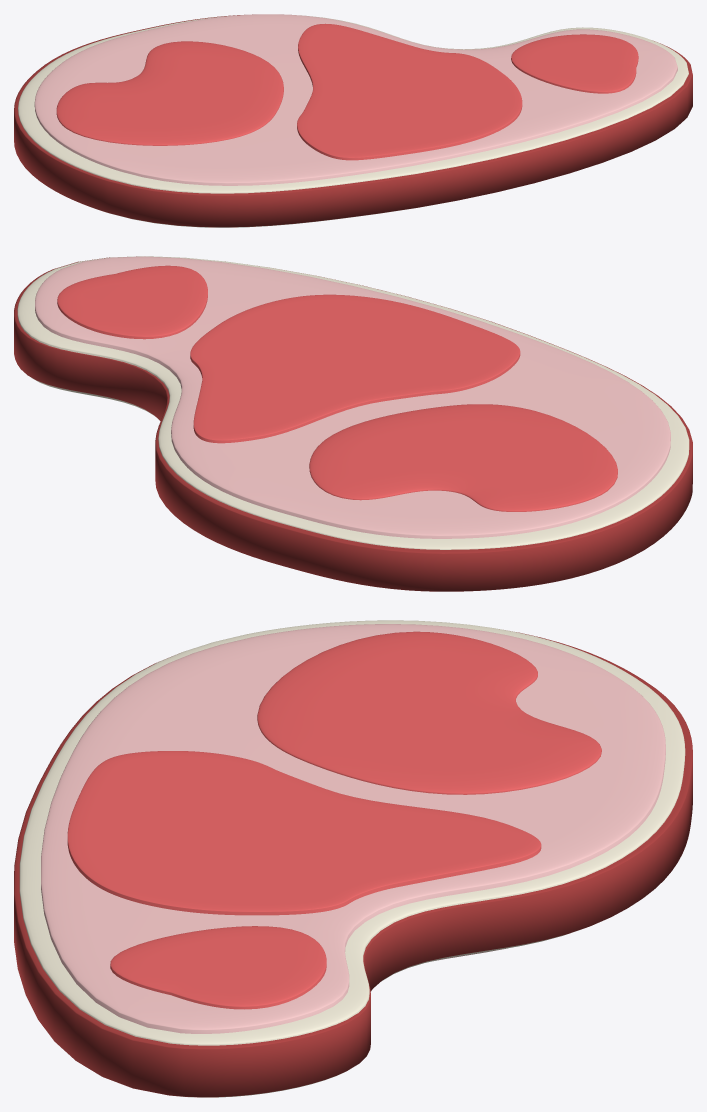
File: beef.glb
3 renders of one model, top to bottom at view 1: azimuth 30°, elevation 25°; view 2: azimuth 150°, elevation 25°; view 3: azimuth 270°, elevation 25°, orthographic. The views are drawn at different scales.
Visible parts, largest first — view 1: 표면.001, 겉면.001, 무늬3.001, 무늬1.001, 테두리.002, 무늬2.001; view 2: 표면.001, 무늬3.001, 겉면.001, 무늬1.001, 테두리.002, 무늬2.001; view 3: 표면.001, 무늬3.001, 무늬1.001, 겉면.001, 테두리.002, 무늬2.001.
Part boxes in pixels (bbox=[...]): 표면.001: bbox=[34, 14, 677, 185]; 겉면.001: bbox=[14, 14, 692, 227]; 무늬3.001: bbox=[297, 23, 522, 160]; 무늬1.001: bbox=[56, 41, 283, 145]; 테두리.002: bbox=[18, 15, 688, 227]; 무늬2.001: bbox=[511, 34, 638, 93]; 표면.001: bbox=[35, 256, 670, 538]; 무늬3.001: bbox=[190, 294, 520, 443]; 겉면.001: bbox=[14, 256, 692, 591]; 무늬1.001: bbox=[309, 404, 617, 511]; 테두리.002: bbox=[17, 256, 689, 549]; 무늬2.001: bbox=[57, 265, 207, 339]; 표면.001: bbox=[41, 624, 665, 1033]; 무늬3.001: bbox=[67, 751, 541, 915]; 무늬1.001: bbox=[257, 631, 601, 794]; 겉면.001: bbox=[14, 632, 692, 1097]; 테두리.002: bbox=[19, 620, 685, 1097]; 무늬2.001: bbox=[110, 926, 326, 1009].
Bounding box in the file's own units: 4.45 × 0.4 × 2.98.
